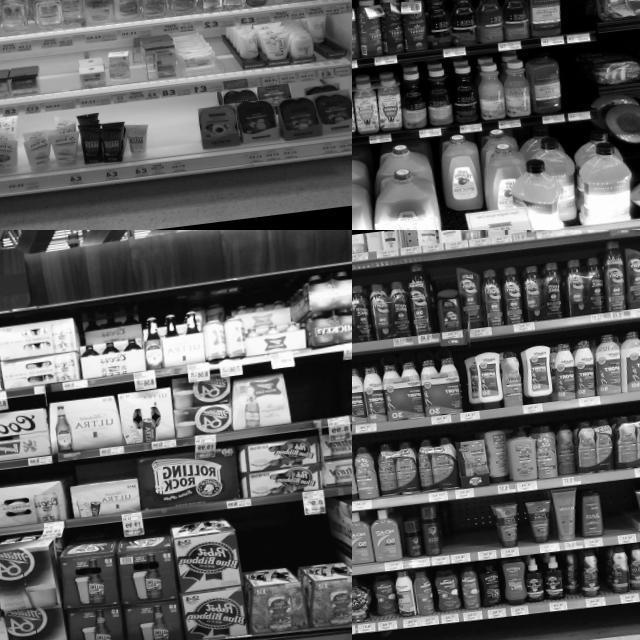empty: (240, 503, 331, 570), (287, 363, 352, 431), (162, 96, 203, 172), (37, 48, 80, 112), (600, 482, 637, 546), (142, 102, 169, 174), (559, 56, 588, 120), (442, 502, 471, 564), (467, 500, 496, 560), (213, 28, 236, 90), (559, 0, 587, 43)
